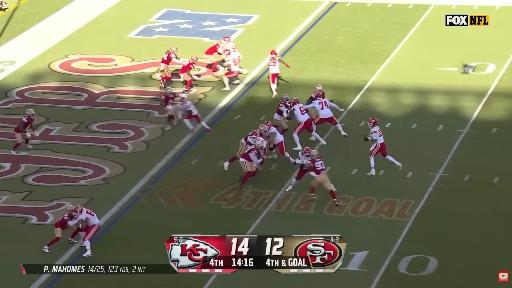Helmet: (72, 206, 83, 215), (368, 118, 377, 128), (250, 131, 259, 140), (254, 142, 264, 150), (220, 37, 230, 45), (26, 109, 35, 117), (259, 125, 268, 133), (304, 147, 311, 156), (264, 121, 271, 129), (170, 46, 178, 53), (270, 49, 278, 56), (223, 50, 231, 57), (315, 93, 324, 99), (166, 87, 172, 96), (311, 150, 318, 157), (191, 56, 198, 63), (282, 94, 289, 101), (292, 98, 299, 105), (180, 96, 187, 102), (67, 206, 75, 211), (316, 85, 322, 91)
Jersey: (305, 99, 339, 117), (76, 208, 100, 225), (241, 147, 262, 164), (222, 43, 241, 60), (15, 116, 34, 133), (308, 157, 325, 175), (294, 104, 309, 122), (268, 127, 283, 144), (306, 91, 325, 104), (179, 101, 198, 114), (161, 51, 177, 65), (371, 126, 384, 143), (244, 134, 264, 145), (295, 151, 311, 164), (276, 102, 289, 117), (268, 56, 279, 73), (205, 43, 222, 54), (226, 58, 240, 71), (58, 213, 73, 225), (162, 93, 175, 106), (21, 116, 34, 129), (180, 61, 194, 73), (311, 91, 325, 99)
Player: (364, 118, 402, 175), (288, 99, 325, 150), (304, 95, 347, 136), (307, 150, 338, 206), (68, 206, 100, 257), (224, 131, 263, 170), (178, 96, 211, 133), (11, 109, 38, 154), (239, 142, 264, 190), (286, 148, 311, 191), (264, 121, 291, 160), (268, 50, 289, 97), (160, 47, 182, 89), (180, 56, 199, 93), (274, 94, 290, 134), (162, 87, 177, 129), (223, 56, 240, 90), (204, 42, 222, 73), (306, 85, 325, 105), (68, 230, 78, 243)
